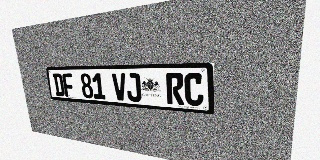1: (91, 73, 106, 99)
8: (80, 73, 94, 99)
C: (184, 73, 204, 107)
D: (52, 73, 65, 96)
F: (62, 73, 75, 97)
J: (125, 73, 142, 102)
R: (166, 73, 184, 105)
V: (112, 73, 127, 101)
